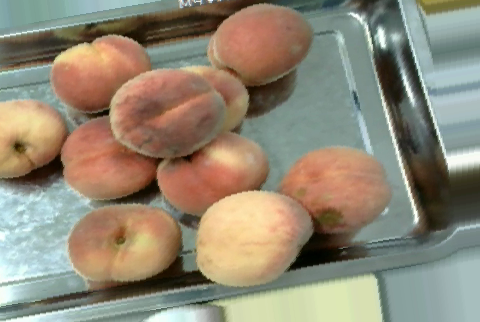Peach: (193, 191, 312, 285), (110, 69, 226, 160), (275, 146, 387, 239), (154, 131, 269, 212), (67, 204, 182, 283), (204, 4, 311, 87), (58, 112, 156, 199), (50, 34, 149, 114), (0, 96, 67, 181)
